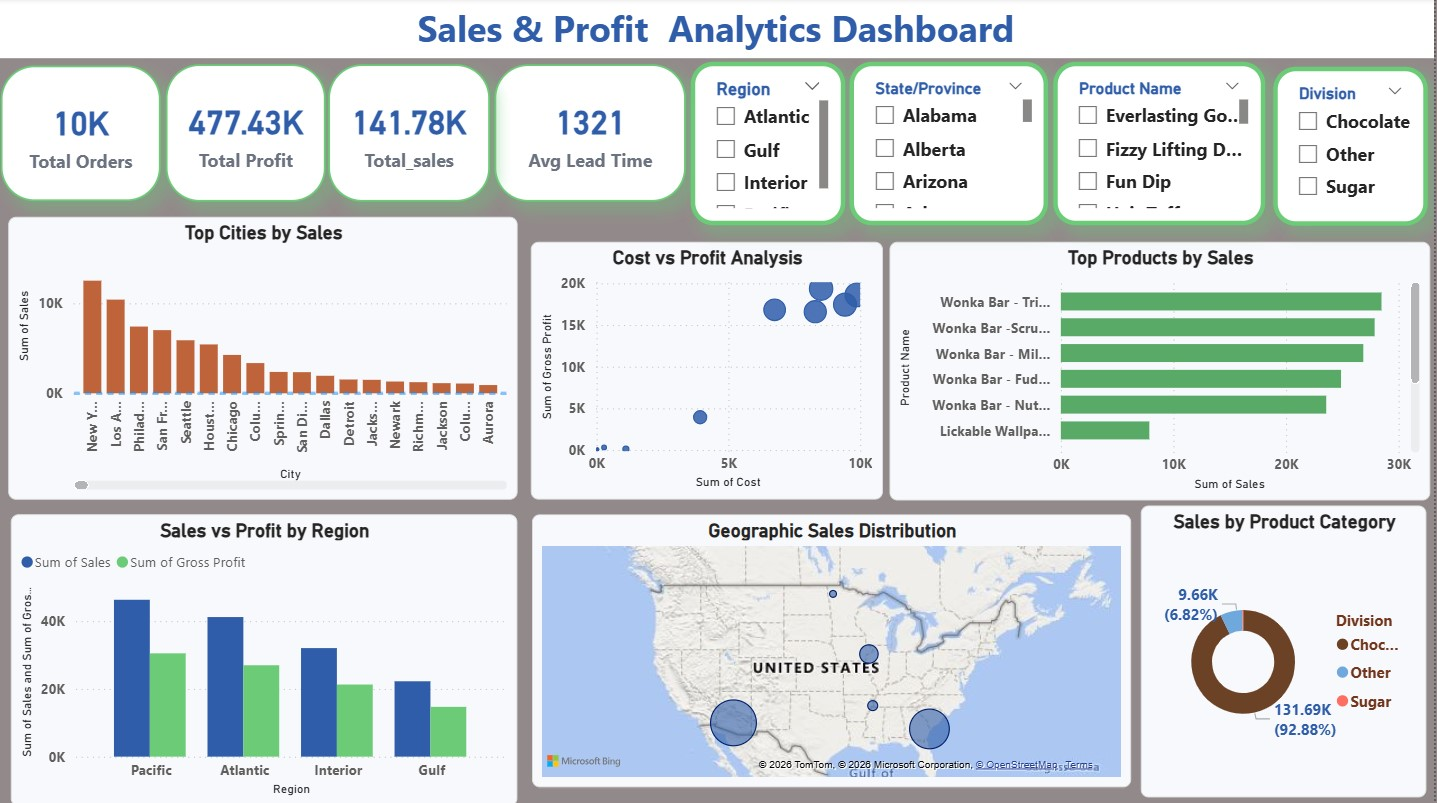

What the dashboard file says about the page in this screenshot:
{"tool":"powerbi","page":{"name":"Sales & profit dasboard","canvas":[1280,720],"ordinal":8},"visuals":[{"type":"textbox","box":[0,0,1280.3,53.5],"z":0},{"type":"card","fields":{"Values":["Nassau Candy Distributor.Total Orders"]},"box":[3.8,59.9,142.7,121],"z":1000},{"type":"card","fields":{"Values":["Nassau Candy Distributor.Avg Lead Time"]},"box":[443.3,58.6,170.7,122.3],"z":2000},{"type":"card","fields":{"Values":["Nassau Candy Distributor.Total Profit"]},"box":[150.3,58.6,142.7,122.3],"z":3000},{"type":"card","fields":{"Values":["Nassau Candy Distributor.Total_sales"]},"box":[295.5,58.6,143.9,122.3],"z":4000},{"type":"clusteredColumnChart","title":"Sales vs Profit by Region","fields":{"Category":["Nassau Candy Distributor.Region"],"Y":["Sum(Nassau Candy Distributor.Sales)","Sum(Nassau Candy Distributor.Gross Profit)"]},"box":[12.7,459.9,451,259.9],"z":5000},{"type":"clusteredBarChart","title":"Top Products by Sales","fields":{"Category":["Nassau Candy Distributor.Product Name"],"Y":["Sum(Nassau Candy Distributor.Sales)"]},"box":[794.9,216.6,481.5,230.6],"z":6000},{"type":"scatterChart","title":"Cost vs Profit Analysis","fields":{"X":["Sum(Nassau Candy Distributor.Cost)"],"Y":["Sum(Nassau Candy Distributor.Gross Profit)"],"Size":["Sum(Nassau Candy Distributor.Sales)"],"Category":["Nassau Candy Distributor.Product Name"]},"box":[475.7,217.2,313.6,229.4],"z":7000},{"type":"donutChart","title":"Sales by Product Category","fields":{"Category":["Nassau Candy Distributor.Division"],"Y":["Sum(Nassau Candy Distributor.Sales)"]},"box":[1019.1,452.2,254.8,259.9],"z":8000},{"type":"clusteredColumnChart","title":"Top Cities by Sales","fields":{"Category":["Nassau Candy Distributor.City"],"Y":["Sum(Nassau Candy Distributor.Sales)"]},"box":[10.2,194.9,453.5,252.2],"z":9000},{"type":"map","title":"Geographic Sales Distribution","fields":{"Y":["factories co-ordinates.Latitude"],"X":["factories co-ordinates.Longitude"],"Size":["Sum(Nassau Candy Distributor.Sales)"]},"box":[476.4,459.9,533.8,243.3],"z":10000},{"type":"slicer","fields":{"Values":["Nassau Candy Distributor.Region"]},"box":[617.8,57.3,137.6,145.2],"z":11000},{"type":"slicer","fields":{"Values":["Nassau Candy Distributor.State/Province"]},"box":[759.2,57.3,177.1,145.2],"z":12000},{"type":"slicer","fields":{"Values":["Nassau Candy Distributor.Product Name"]},"box":[940.1,57.3,188.5,145.2],"z":13000},{"type":"slicer","fields":{"Values":["Nassau Candy Distributor.Division"]},"box":[1136.3,61.1,137.6,141.4],"z":14000}]}

Visuals, with their boxes in screenshot pixels (x1, y1, x2, y2), scaled from the page's 1280x720 canvas onto the 1437x803 screenshot:
textbox: 0, 0, 1436, 60
card - Nassau Candy Distributor.Total Orders: 4, 67, 164, 202
card - Nassau Candy Distributor.Avg Lead Time: 498, 65, 689, 202
card - Nassau Candy Distributor.Total Profit: 169, 65, 329, 202
card - Nassau Candy Distributor.Total_sales: 332, 65, 493, 202
"Sales vs Profit by Region" clusteredColumnChart: 14, 513, 521, 802
"Top Products by Sales" clusteredBarChart: 892, 242, 1433, 499
"Cost vs Profit Analysis" scatterChart: 534, 242, 886, 498
"Sales by Product Category" donutChart: 1144, 504, 1430, 794
"Top Cities by Sales" clusteredColumnChart: 11, 217, 521, 499
"Geographic Sales Distribution" map: 535, 513, 1134, 784
slicer - Nassau Candy Distributor.Region: 694, 64, 848, 226
slicer - Nassau Candy Distributor.State/Province: 852, 64, 1051, 226
slicer - Nassau Candy Distributor.Product Name: 1055, 64, 1267, 226
slicer - Nassau Candy Distributor.Division: 1276, 68, 1430, 226
